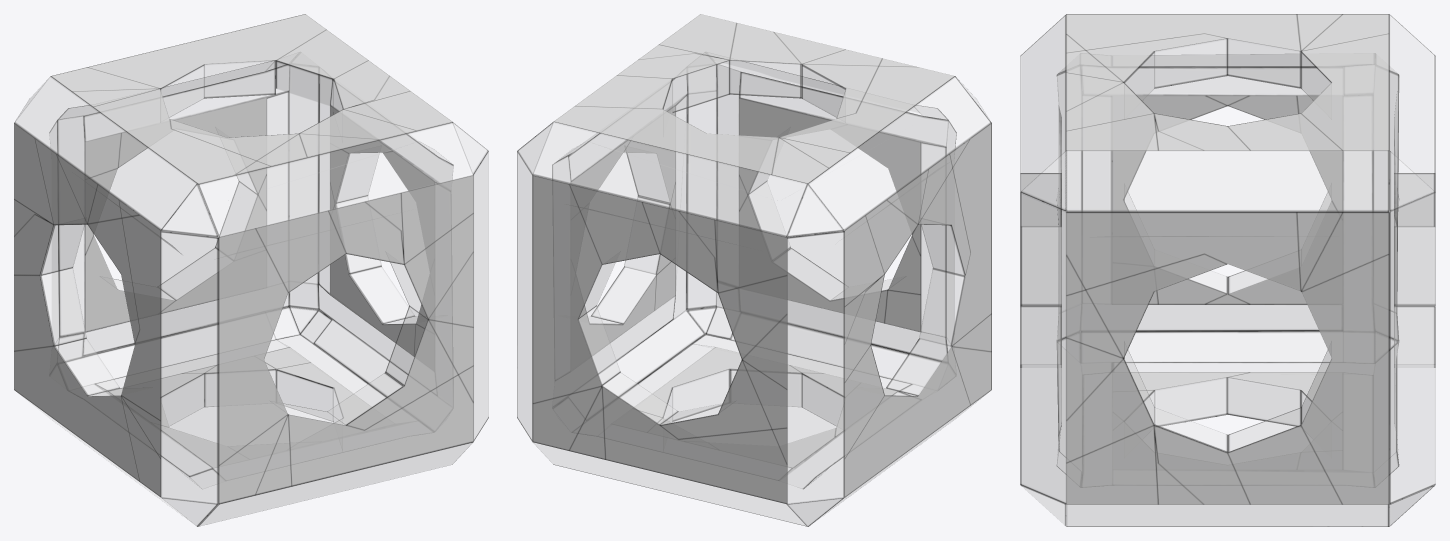
The picture shows the model from 3 angles, left to right: view 1: azimuth 30°, elevation 25°; view 2: azimuth 150°, elevation 25°; view 3: azimuth 270°, elevation 25°; orthographic projection. The views are drawn at different scales.
Parts seen in each view (by area): view 1: Node; view 2: Node; view 3: Node.
Part boxes in pixels (box(x1,y1,x2,y2)): Node: box(14, 14, 488, 526); Node: box(517, 14, 991, 526); Node: box(1020, 14, 1435, 526).
Size of the model in its own units: 10 by 10 by 10.
1 material, 1 textured.
